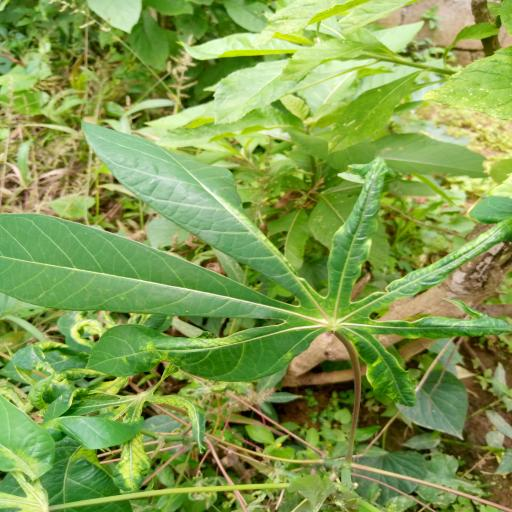Cassava_Mosaic: (0, 119, 512, 410)
